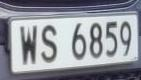5: (104, 17, 121, 64)
6: (69, 18, 89, 67)
8: (88, 18, 106, 64)
9: (119, 16, 135, 63)
S: (38, 19, 62, 71)
W: (17, 19, 41, 74)
